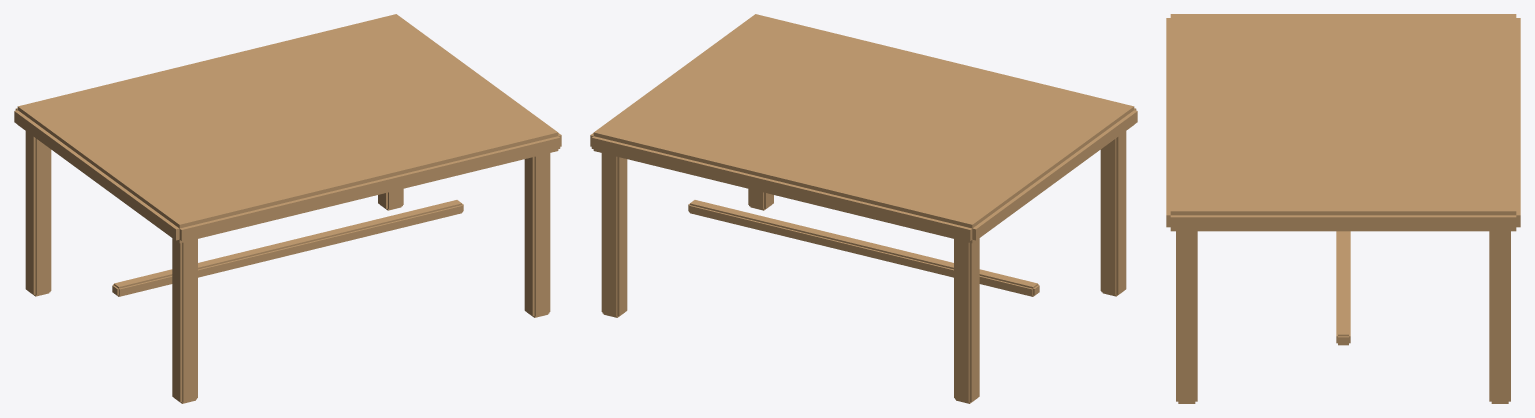
The model's file is palm_table_v0.glb.
The picture shows the model from 3 angles, left to right: view 1: azimuth 30°, elevation 25°; view 2: azimuth 150°, elevation 25°; view 3: azimuth 270°, elevation 25°; orthographic projection. The views are drawn at different scales.
Parts seen in each view (by area): view 1: palm_table_v0; view 2: palm_table_v0; view 3: palm_table_v0.
Part boxes in pixels (x1,y1,x2,y2): palm_table_v0: (14,14,561,403); palm_table_v0: (590,14,1137,403); palm_table_v0: (1166,14,1520,403).
Size of the model in its own units: 1.96 by 0.89 by 1.46.
